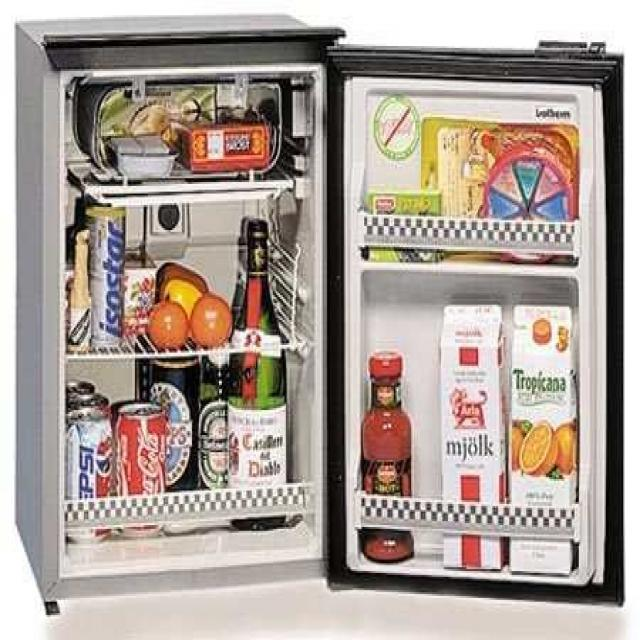refrigerator: (16, 26, 594, 591)
